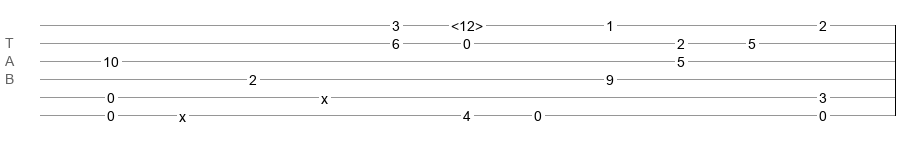0: (107, 108, 115, 118), (107, 90, 115, 100), (463, 36, 471, 46), (534, 108, 542, 118), (819, 108, 827, 118)
1: (606, 18, 614, 28)
10: (103, 54, 119, 64)
2: (249, 72, 257, 82), (677, 36, 685, 46), (819, 18, 827, 28)
3: (392, 18, 400, 28), (819, 90, 827, 100)
4: (463, 108, 471, 118)
5: (677, 54, 685, 64), (748, 36, 756, 46)
6: (392, 36, 400, 46)
9: (606, 72, 614, 82)
harmonic: (451, 18, 483, 28)
x: (179, 109, 186, 117), (321, 91, 328, 99)
